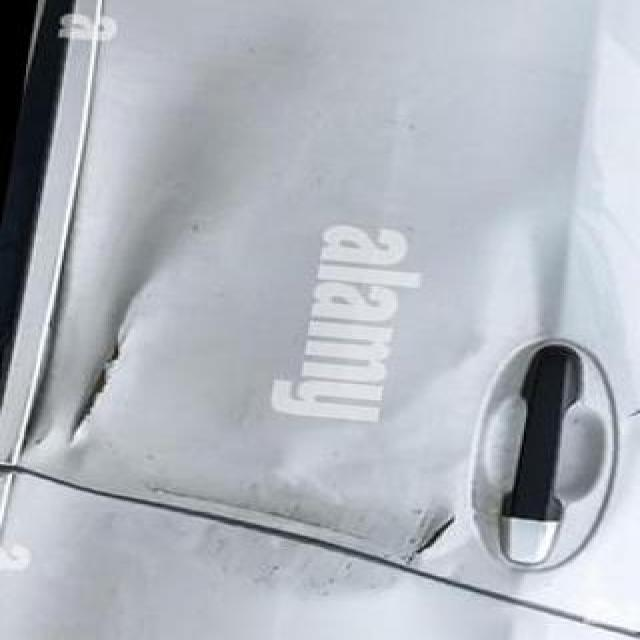dent: (0, 264, 214, 448), (398, 496, 472, 574)
